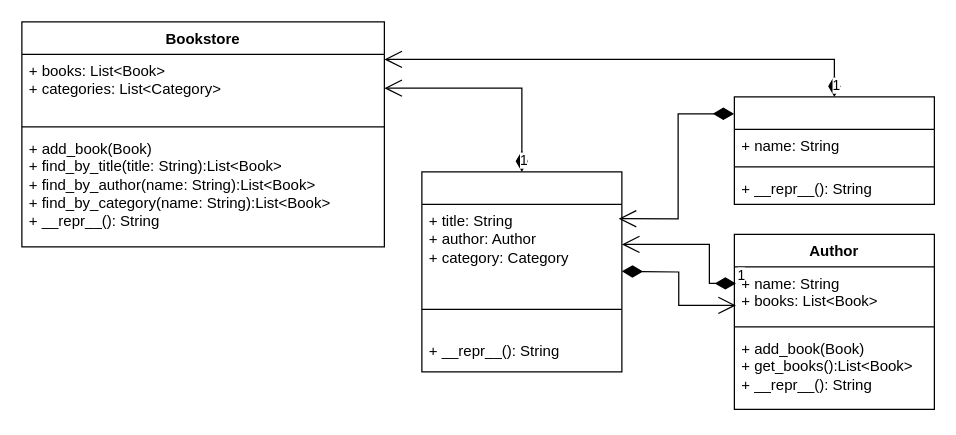
Some shapes in this 956 by 435 pixel diagram are drawn without their labels. The box of each missing label's shape, as (x1, y1, x2, y2) in pixels:
Book: (421, 171, 622, 372)
Category: (733, 96, 934, 204)
